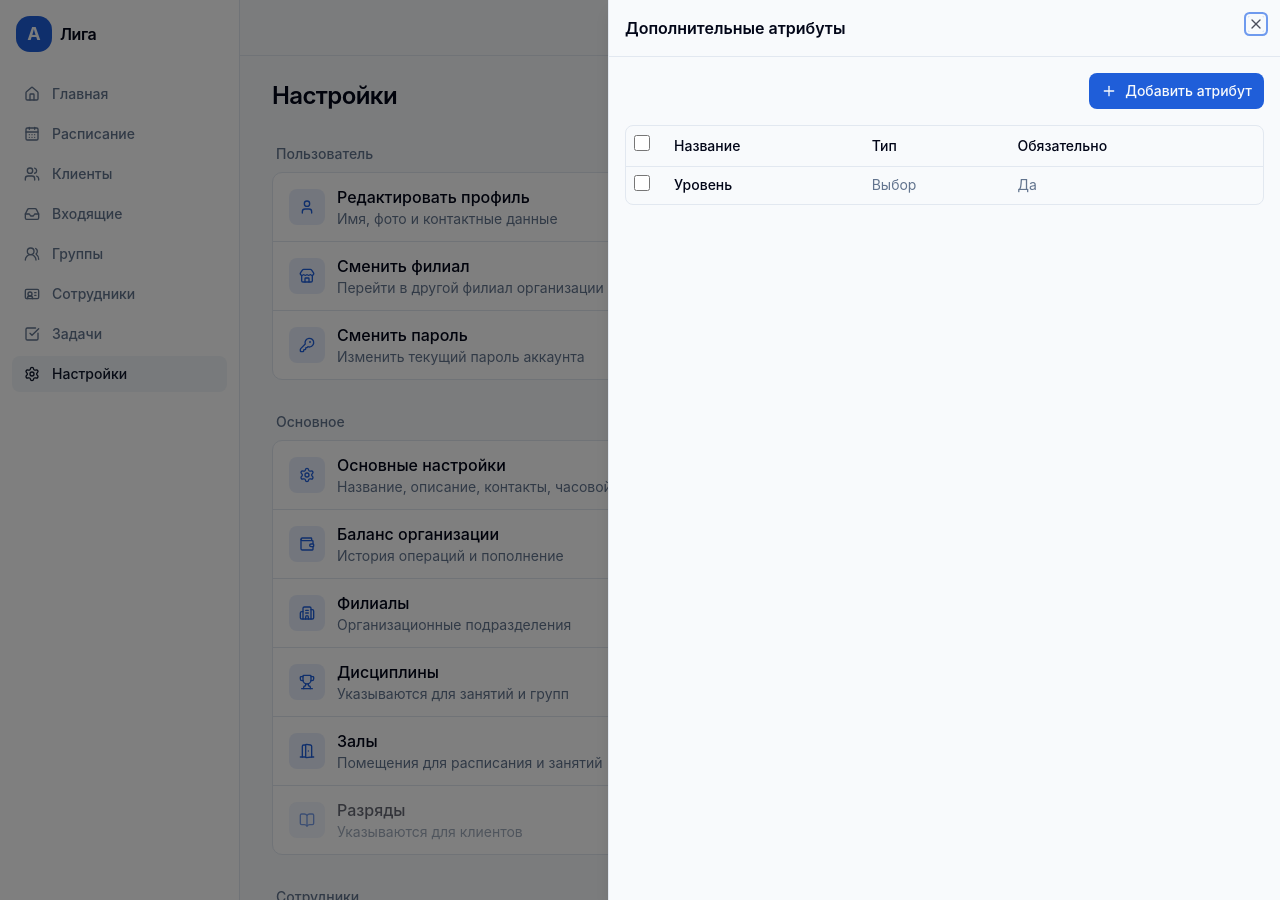
Scenario: дополнительные атрибуты › не даёт создать поле с занятым ключом
This screenshot has width=1280, height=900.
Click the button "Добавить атрибут" at (1177, 91), box [1089,73,1264,109]
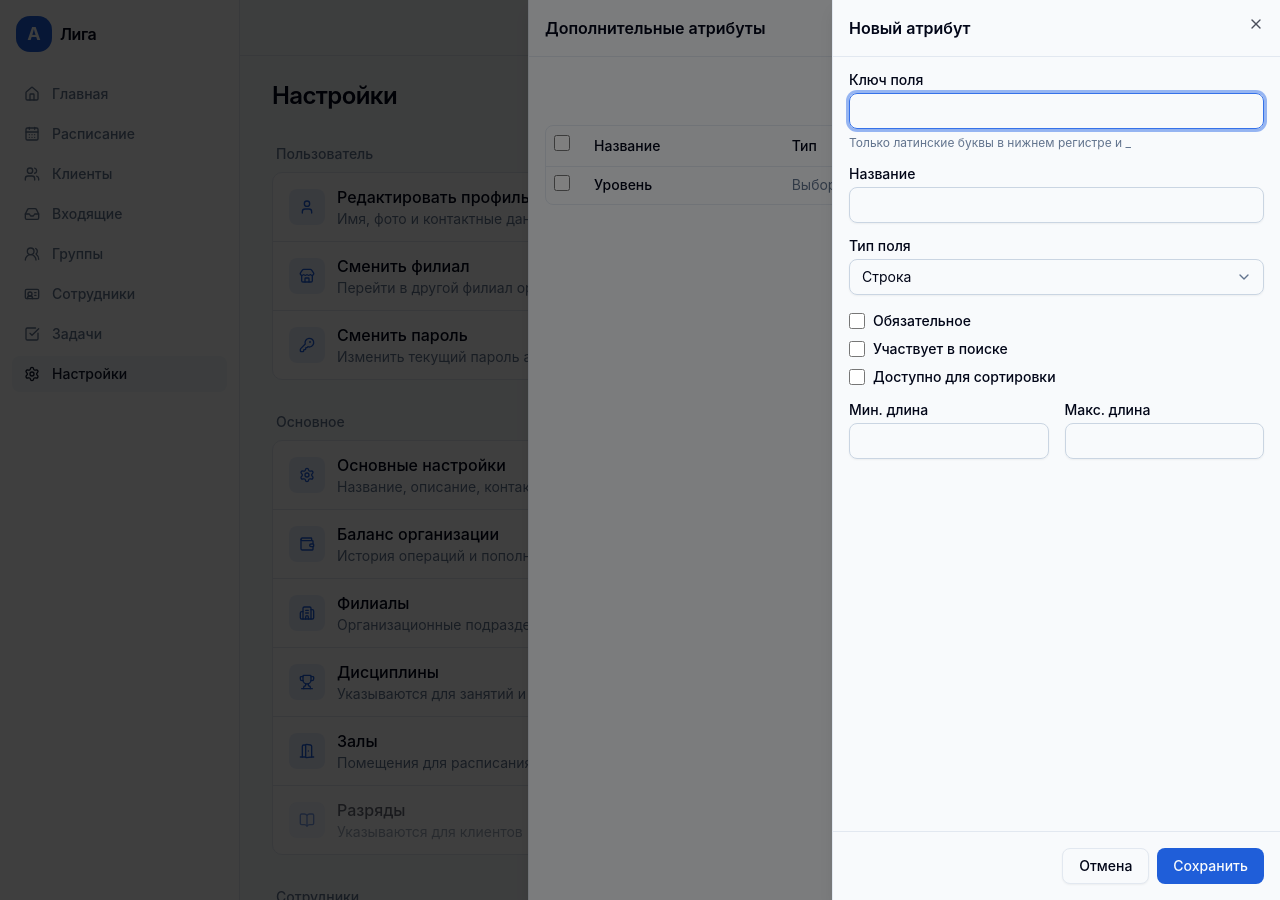
Type "level" into the field labelled "Ключ поля" at (1056, 111), box [849,93,1264,129]
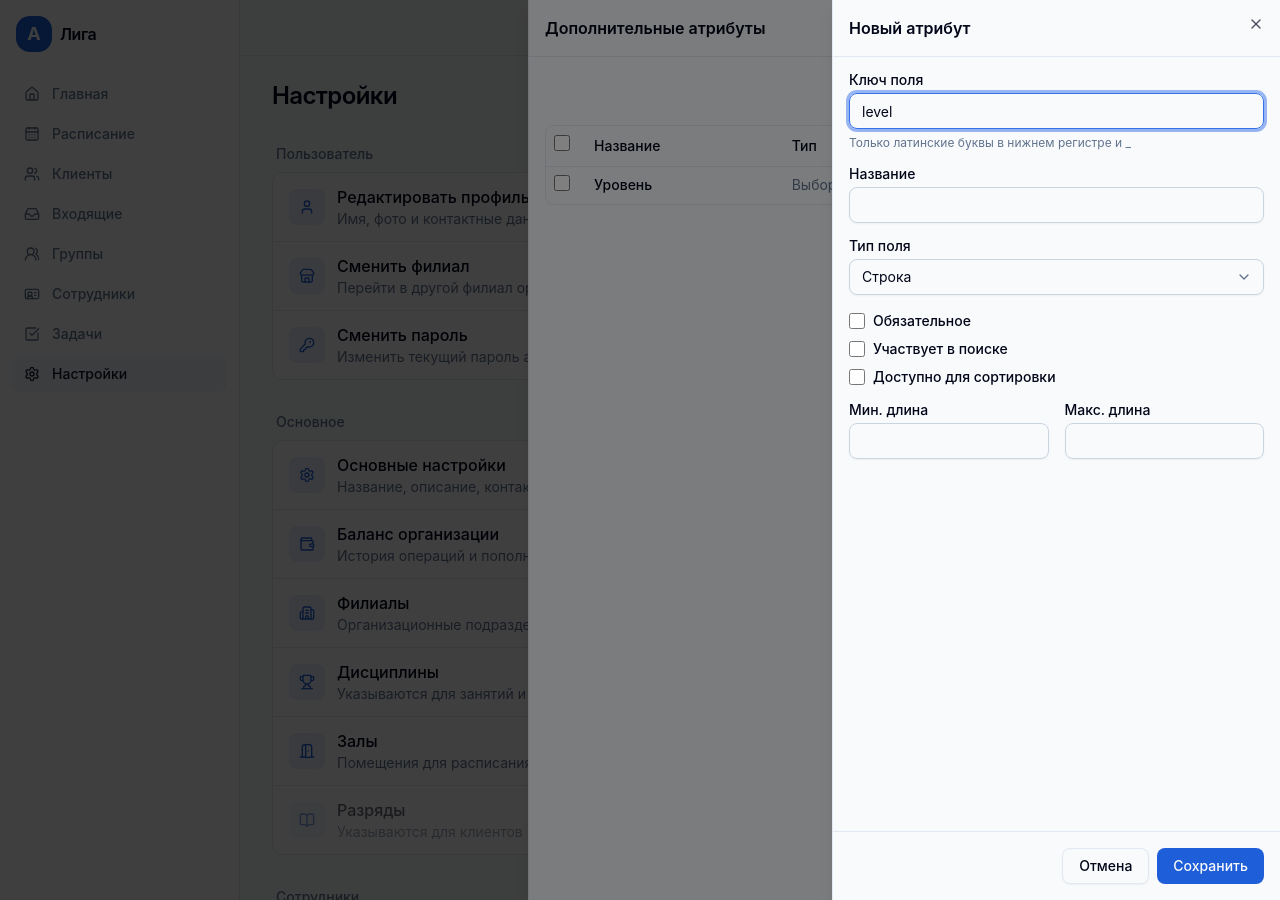
Type "Дубль" into the field labelled "Название" at (1056, 205), box [849,187,1264,223]
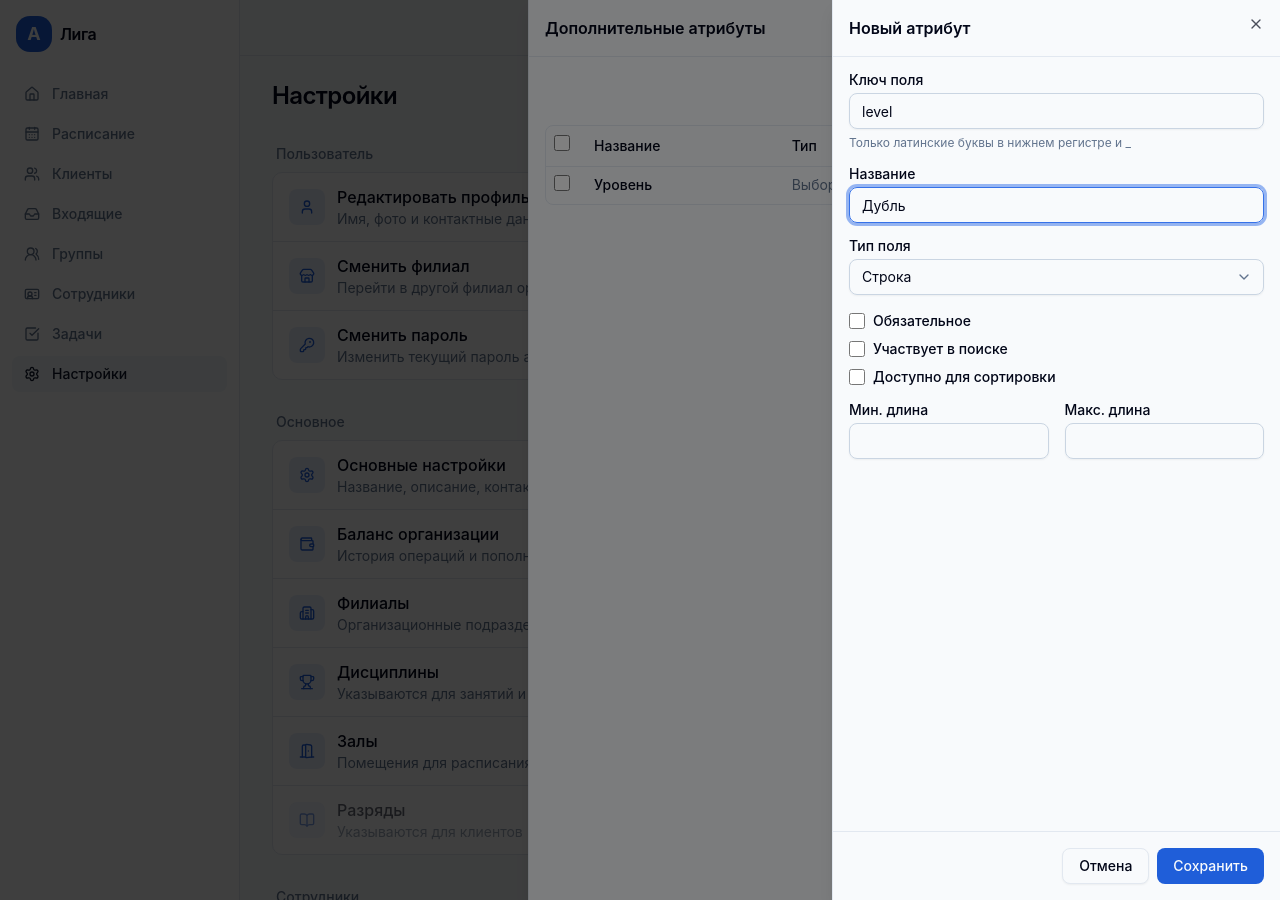
Click the button "Сохранить" at (1211, 866), box [1157,848,1264,884]
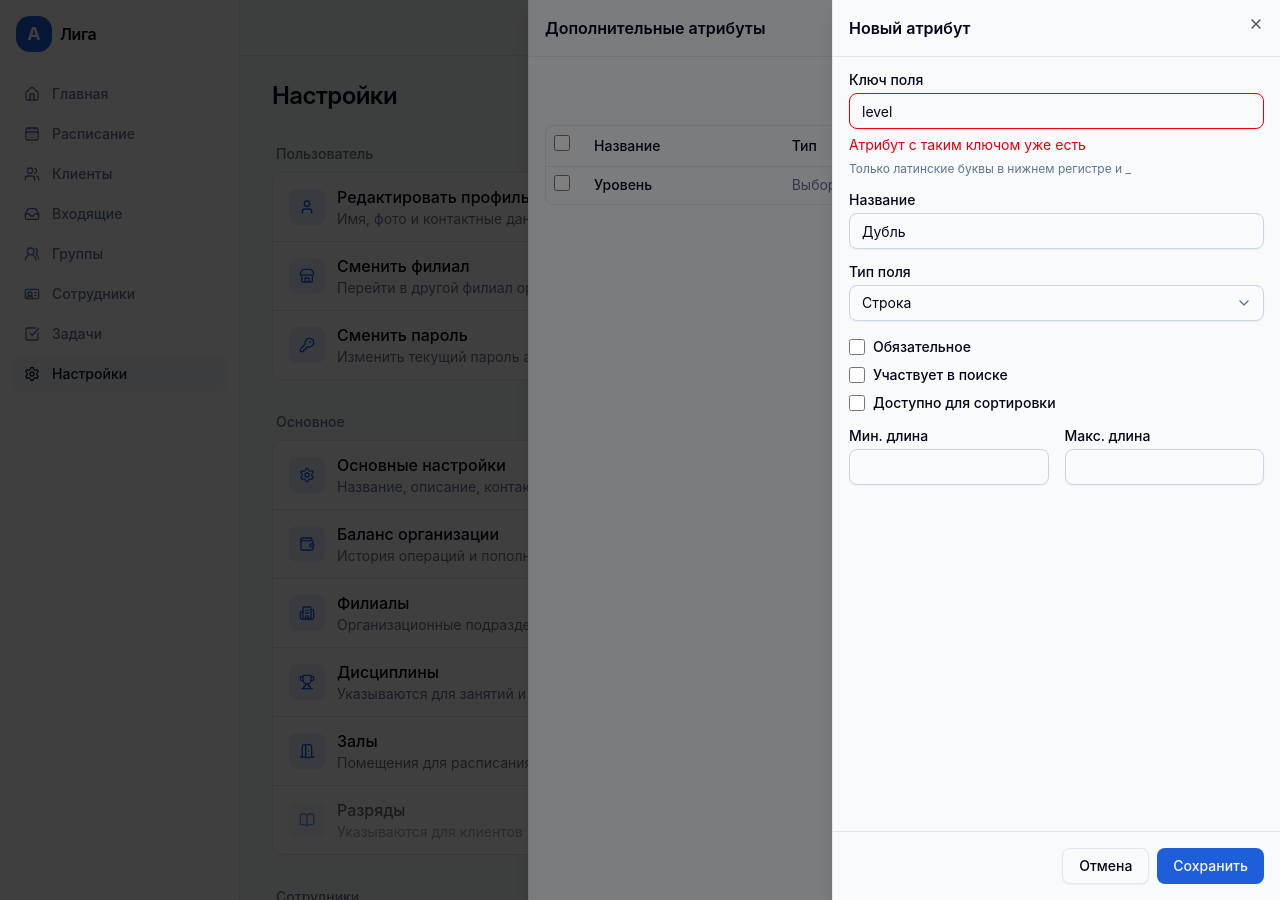
Now the text "Атрибут с таким ключом уже есть" is shown, box [849,136,1086,153]
